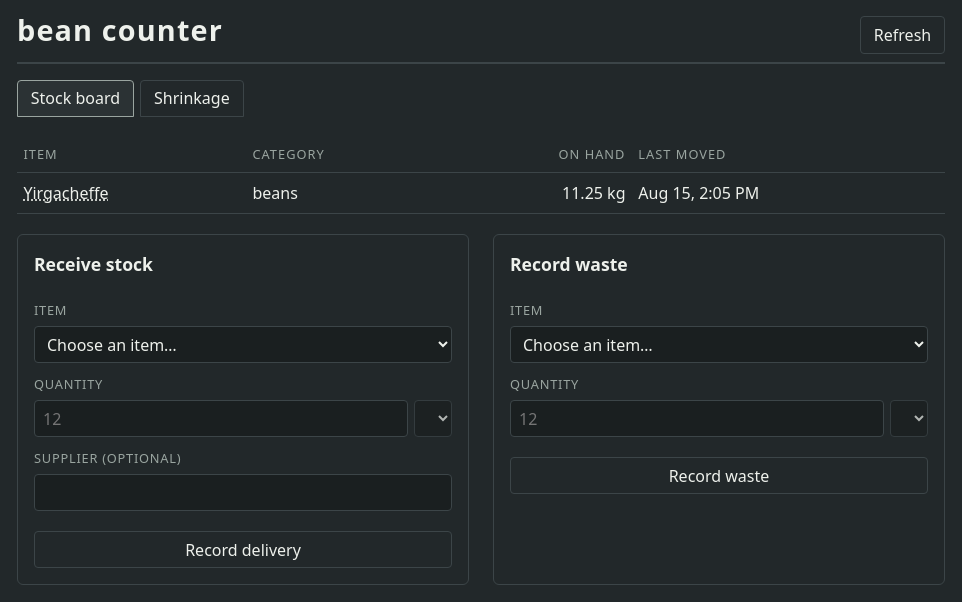
Test: shrinkage report › leaves the stock board reachable and untouched
Expected: the button "Yirgacheffe" is shown, [23,181,108,205]
Step 1. Click the tab "Shrinkage" → (192, 98), box [140,80,244,117]
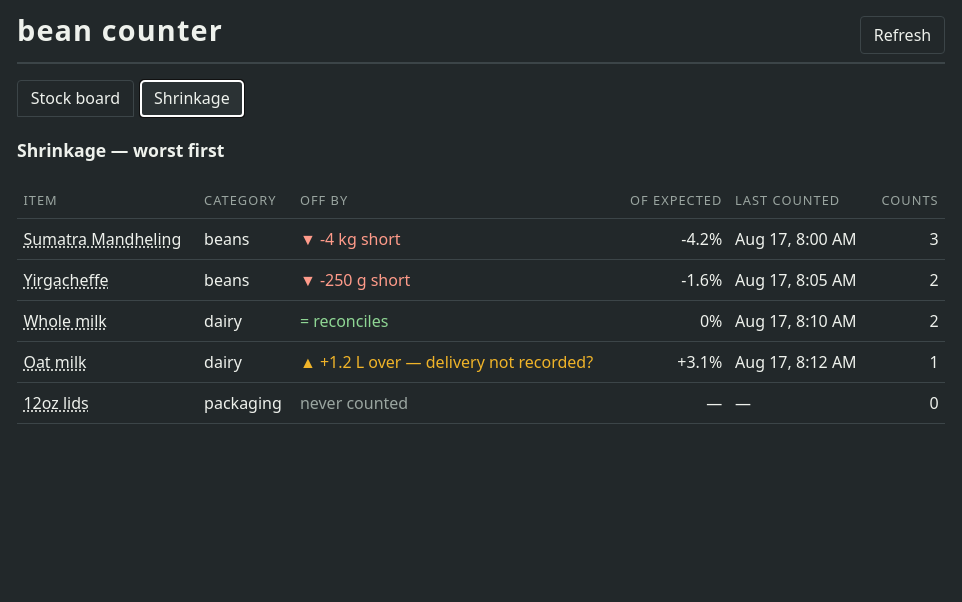
Step 2. Click the tab "Stock board" → (75, 98), box [17,80,134,117]
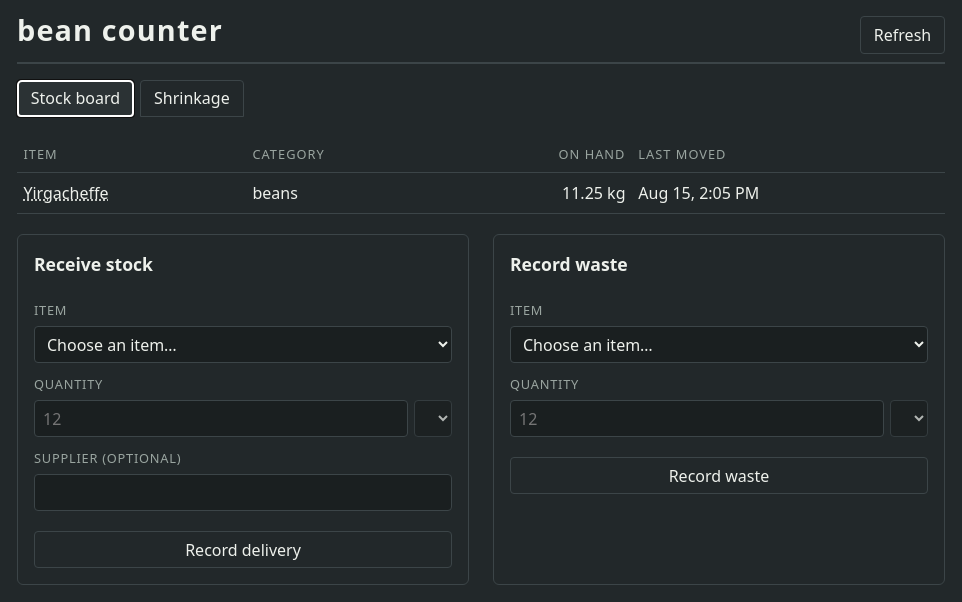
Expected: the button "Yirgacheffe" is shown, [23,181,108,205]
Result: the element "Shrinkage report" is gone
